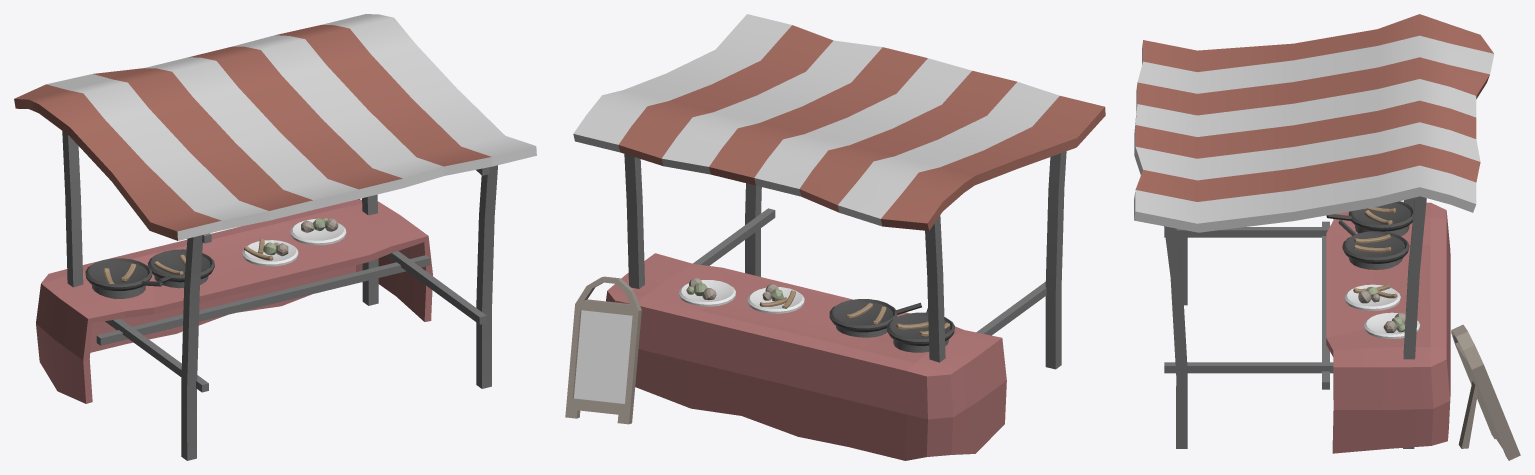
File: foodstall.fbx
3 views of the same model, side by side, from view 1: azimuth 30°, elevation 25°; view 2: azimuth 150°, elevation 25°; view 3: azimuth 270°, elevation 25° (orthographic).
Parts seen in each view (by area): view 1: Stall; view 2: Stall; view 3: Stall.
Boxes of the visible parts, bbox=[...] form: Stall: bbox=[14, 14, 536, 460]; Stall: bbox=[565, 14, 1105, 460]; Stall: bbox=[1134, 14, 1520, 460].
Bounding box in the file's own units: 227 × 170 × 214.
